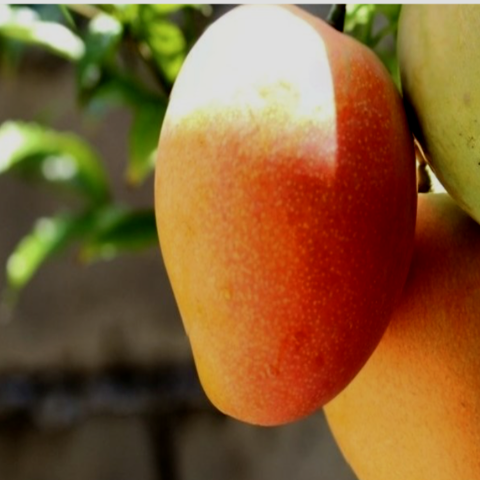mango: (131, 2, 455, 468)
